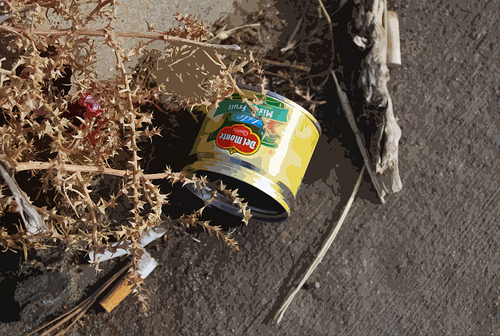litter: (178, 85, 323, 221), (99, 250, 157, 314), (83, 224, 166, 264), (384, 8, 402, 67)
